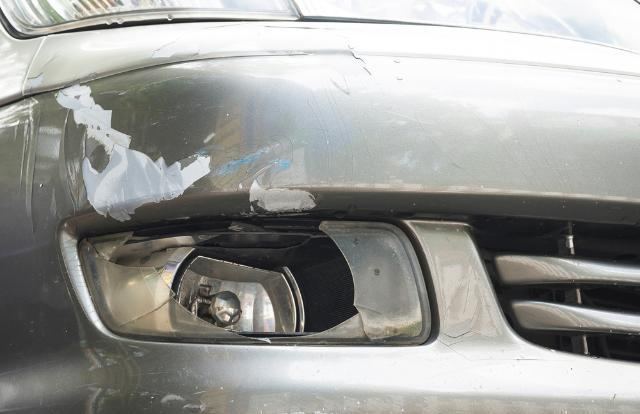lamp broken: (76, 216, 437, 348)
scratch: (57, 77, 331, 224)
